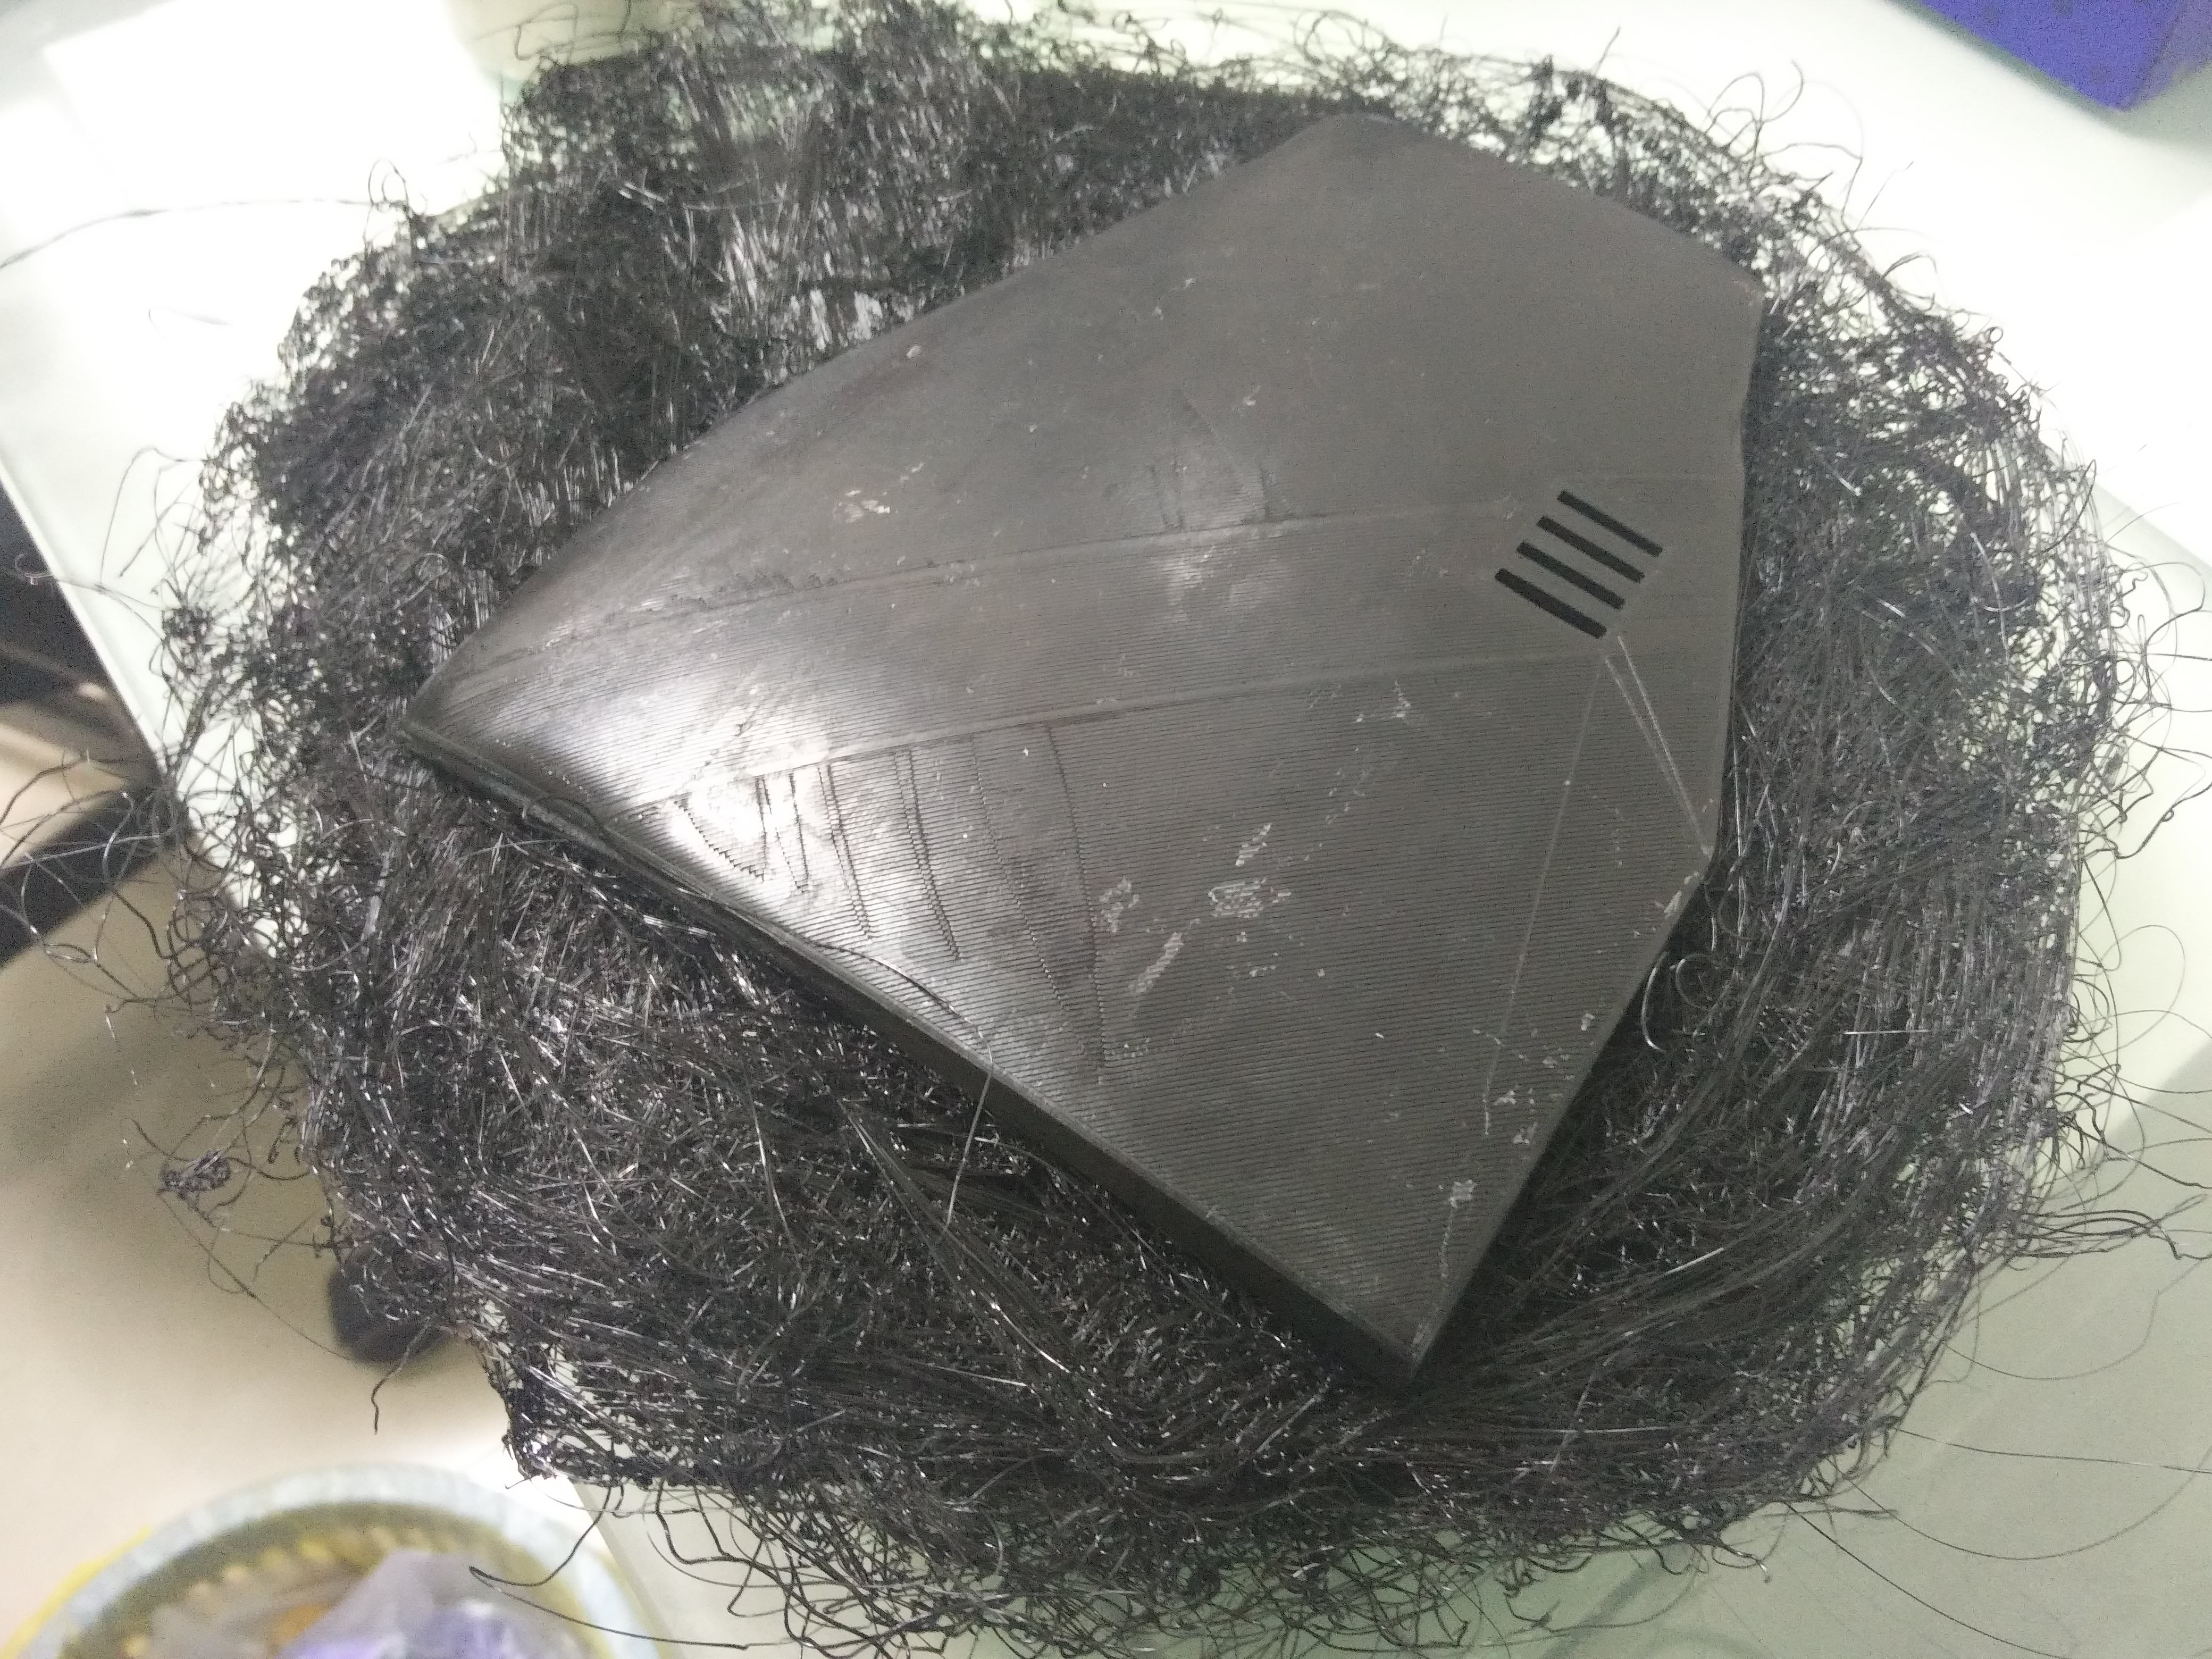fail: (17, 756, 1432, 1649), (1747, 179, 2210, 1574), (56, 279, 925, 718), (103, 17, 1310, 254), (1420, 882, 1754, 1593)
